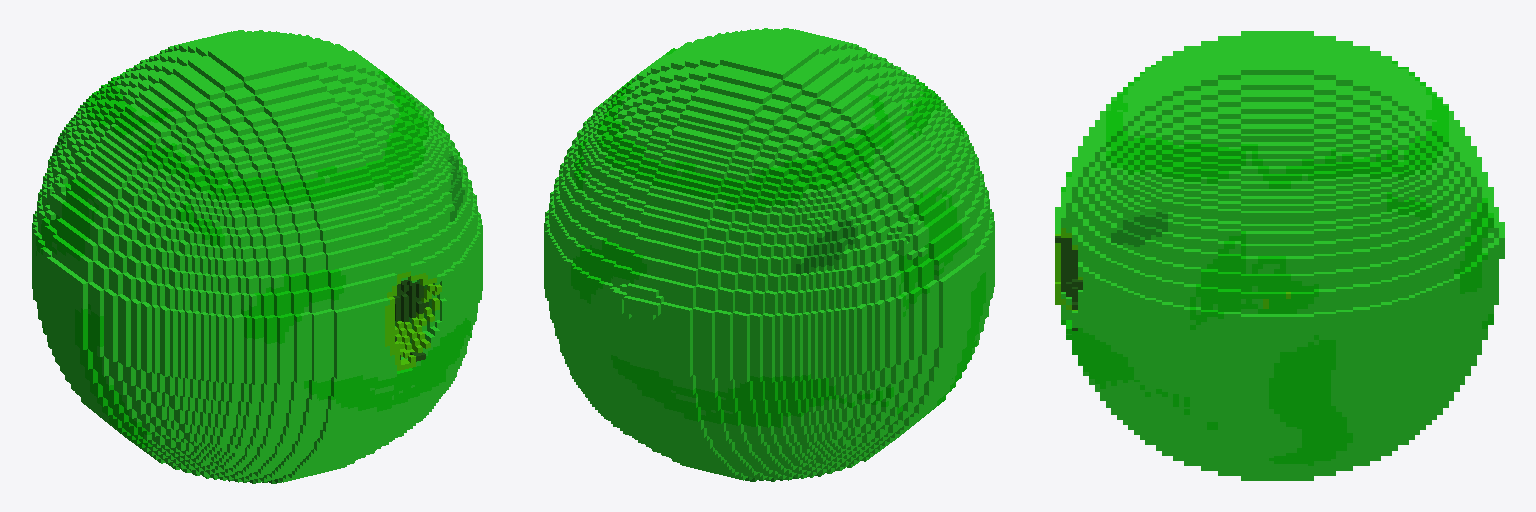
3 views of the same model, side by side, from view 1: azimuth 30°, elevation 25°; view 2: azimuth 150°, elevation 25°; view 3: azimuth 270°, elevation 25° (orthographic).
Size of the model in its own units: 79 by 79 by 80.
1 materials, 1 textured.